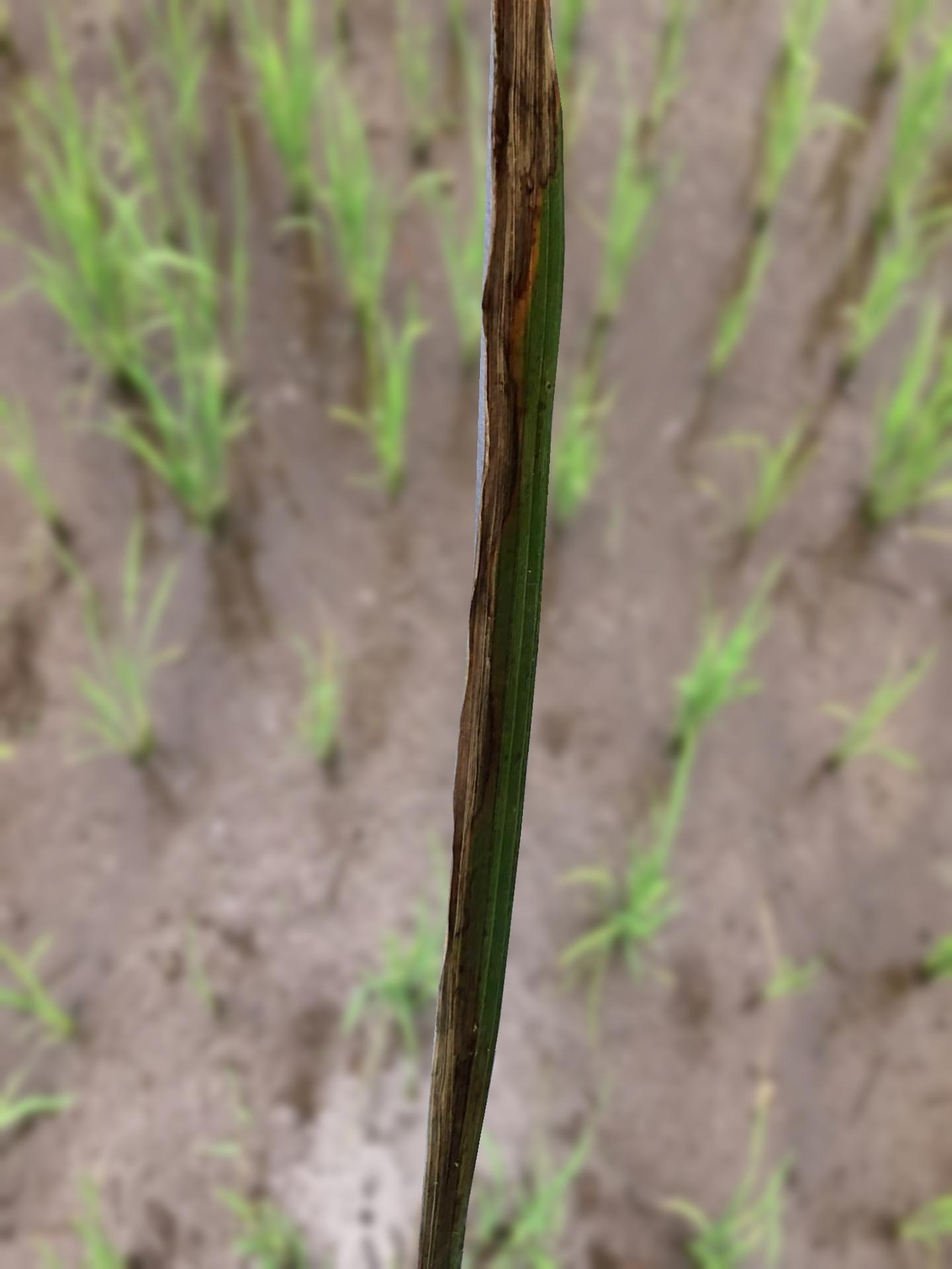BLB: (417, 0, 562, 1268)
LEAF: (416, 0, 565, 1268)
